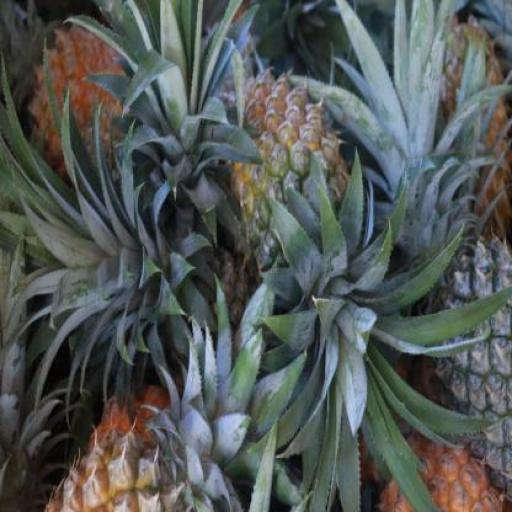------------------------------: (224, 64, 362, 274)
Pineapple - v8 v1: (43, 426, 195, 512)
